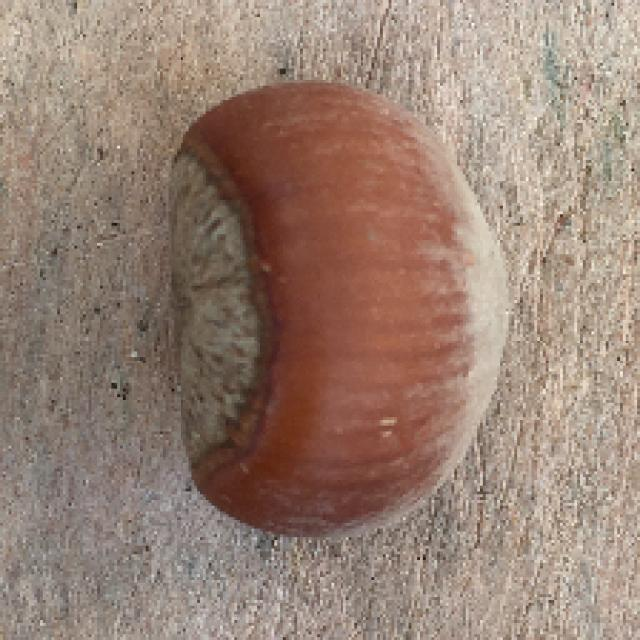QualityHazelnut: (165, 79, 516, 539)
